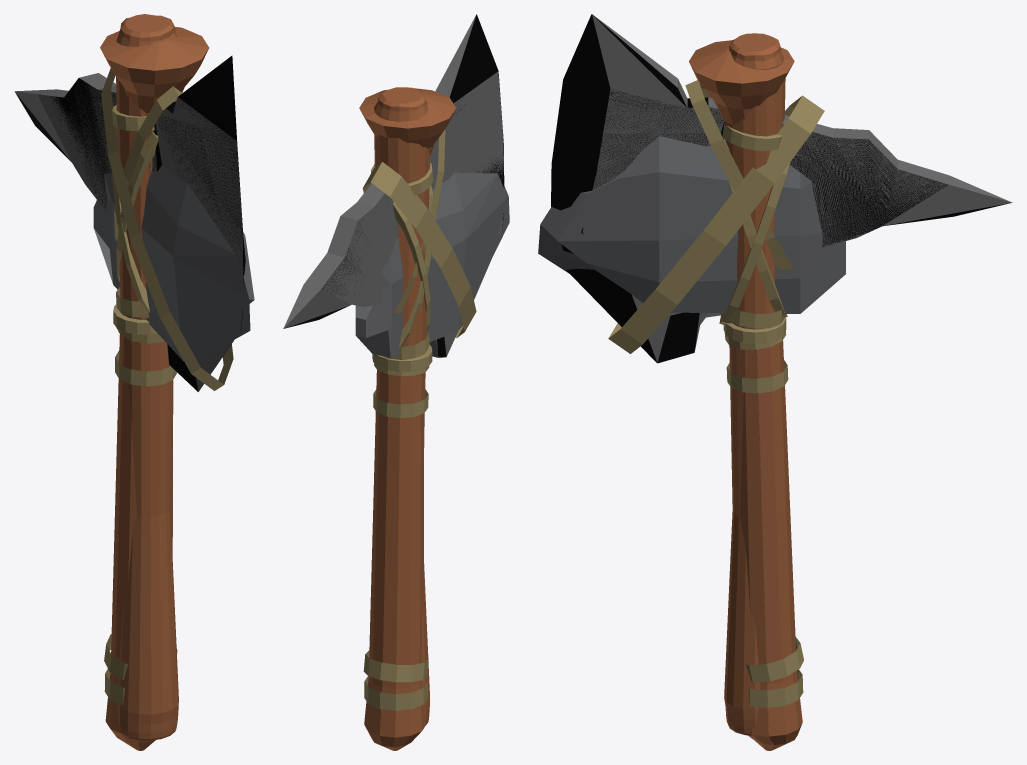
The model's file is AxesALL.fbx.
3 renders of one model, left to right at view 1: azimuth 30°, elevation 25°; view 2: azimuth 150°, elevation 25°; view 3: azimuth 270°, elevation 25°, orthographic. The views are drawn at different scales.
Visible parts, largest first — view 1: Cylinder.004, Cylinder.001, Cylinder; view 2: Cylinder, Cylinder.004, Cylinder.001; view 3: Cylinder.004, Cylinder.001, Cylinder.
Part boxes in pixels (bbox=[...]): Cylinder.004: bbox=[93, 14, 254, 740]; Cylinder.001: bbox=[15, 36, 245, 750]; Cylinder: bbox=[15, 27, 243, 728]; Cylinder: bbox=[283, 15, 503, 750]; Cylinder.004: bbox=[355, 87, 509, 724]; Cylinder.001: bbox=[287, 14, 504, 740]; Cylinder.004: bbox=[538, 33, 845, 735]; Cylinder.001: bbox=[551, 14, 1008, 750]; Cylinder: bbox=[582, 14, 1012, 750].
Size of the model in its own units: 7.15 by 54.99 by 32.18.
